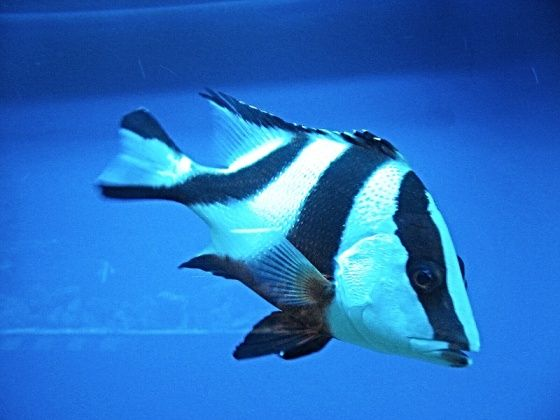fish: (94, 88, 482, 368)
